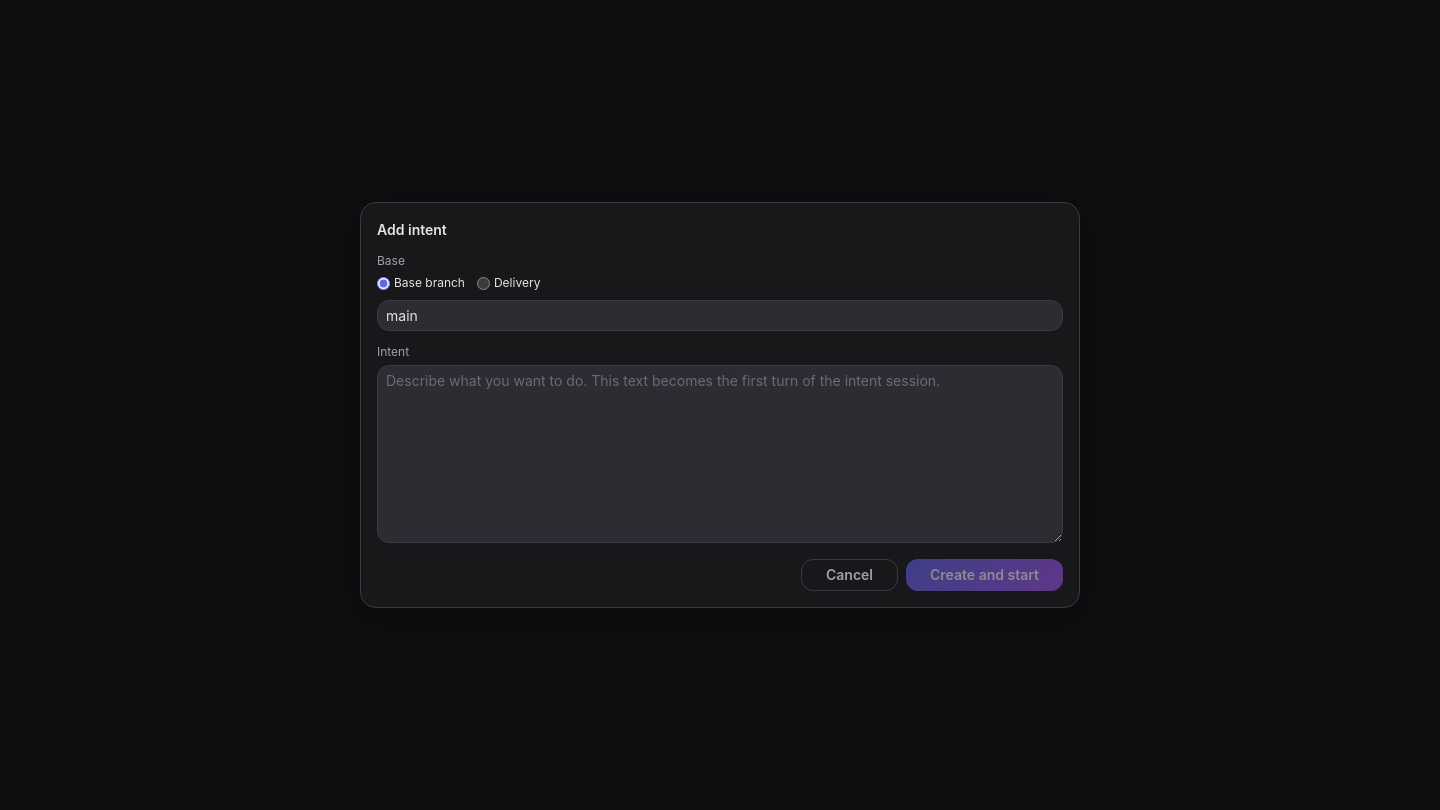
CreateIntentDialog — 基准来源互斥与默认 › 一条可选交付都没有时给出说明
The image size is (1440, 810).
Click the radio button with test id "create-intent-base-delivery" at (484, 283), box [477, 276, 490, 290]
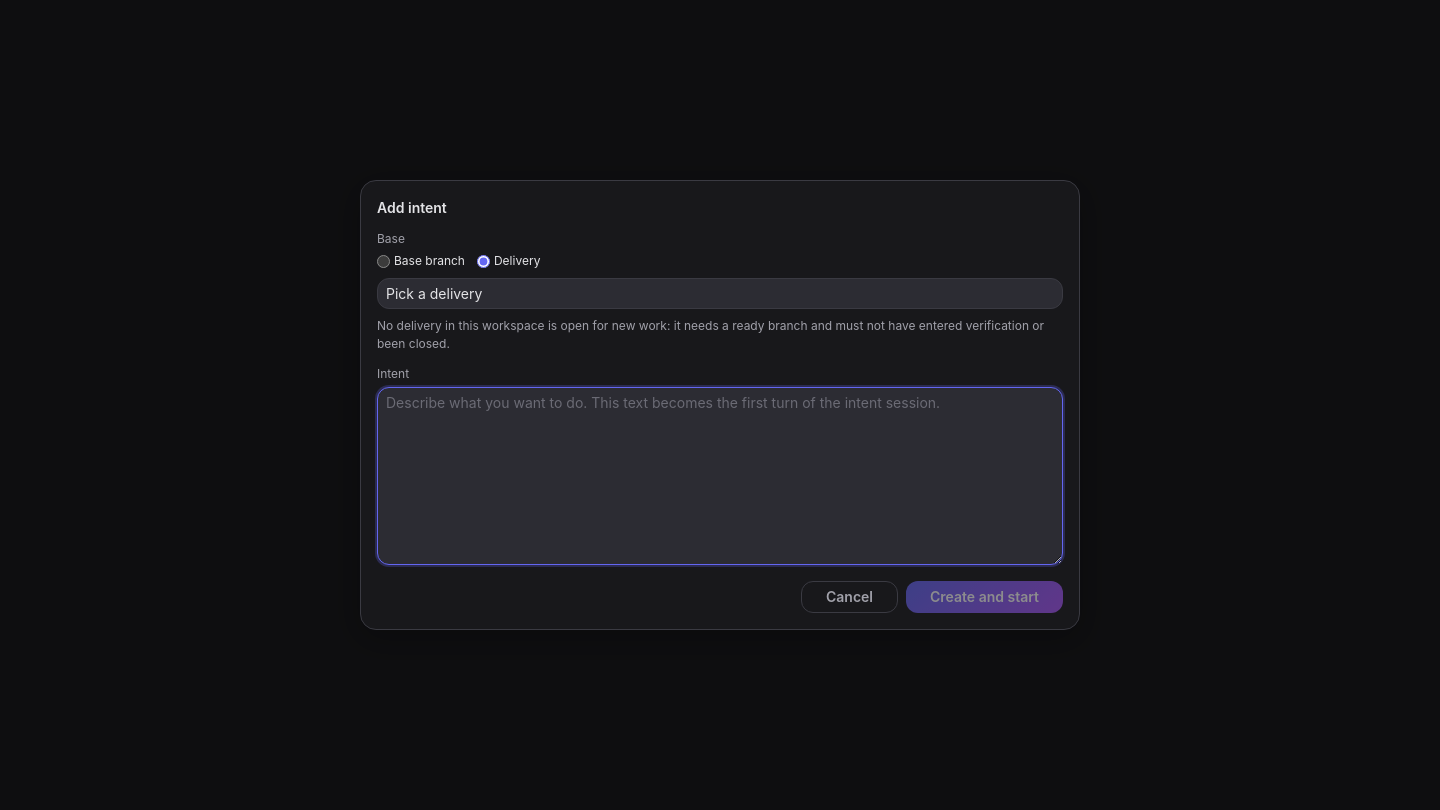
Check: the text with test id "create-intent-delivery-empty" is shown, box [377, 317, 1063, 353]
